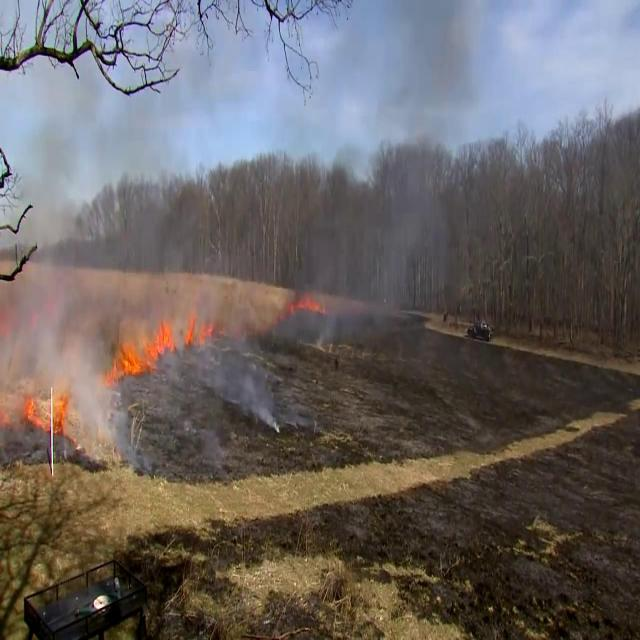Fire: (104, 321, 176, 380), (186, 315, 214, 345), (294, 290, 324, 314), (51, 391, 68, 433), (24, 400, 44, 428)
